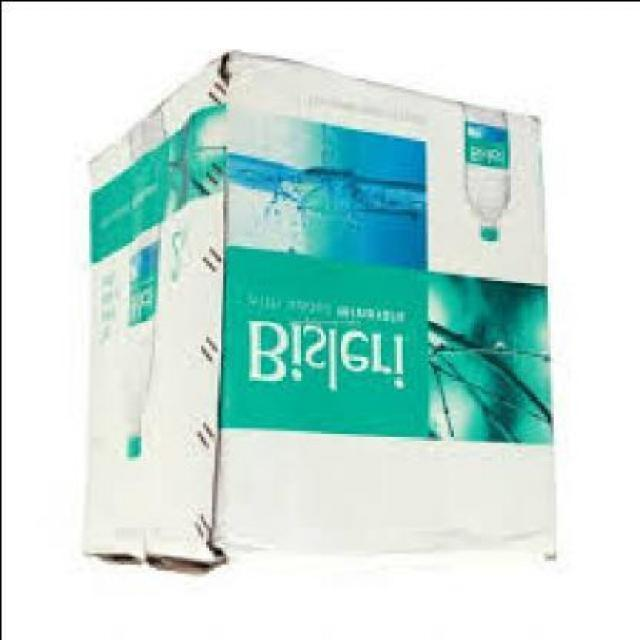box: (77, 56, 552, 576)
